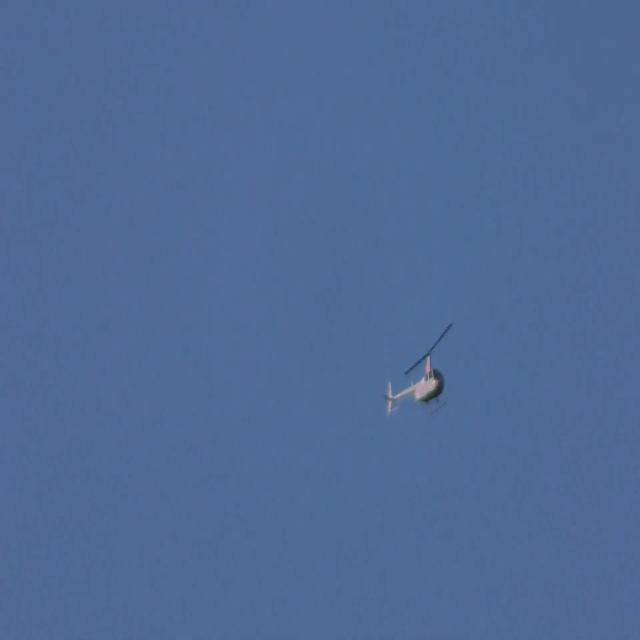CIV_HELO: (383, 348, 448, 416)
